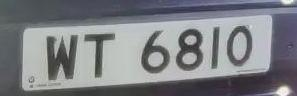0: (223, 21, 256, 72)
1: (206, 20, 227, 75)
6: (136, 26, 176, 81)
8: (171, 21, 208, 75)
T: (80, 27, 125, 85)
W: (39, 28, 83, 87)
